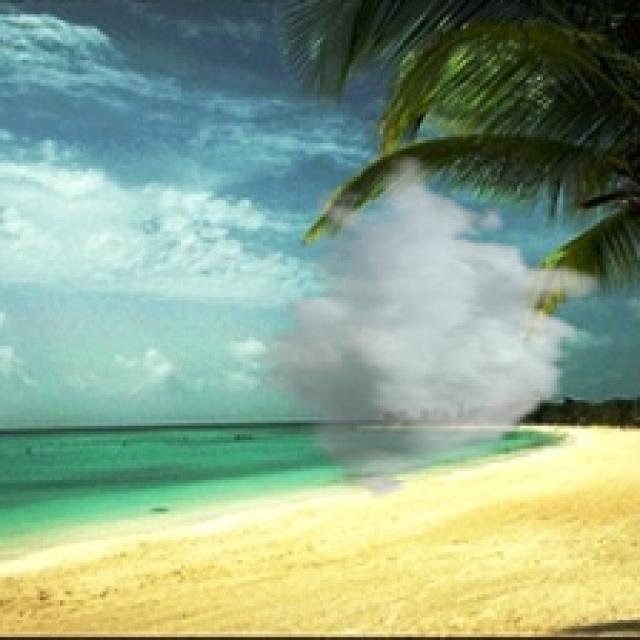smoke: (248, 154, 606, 500)
